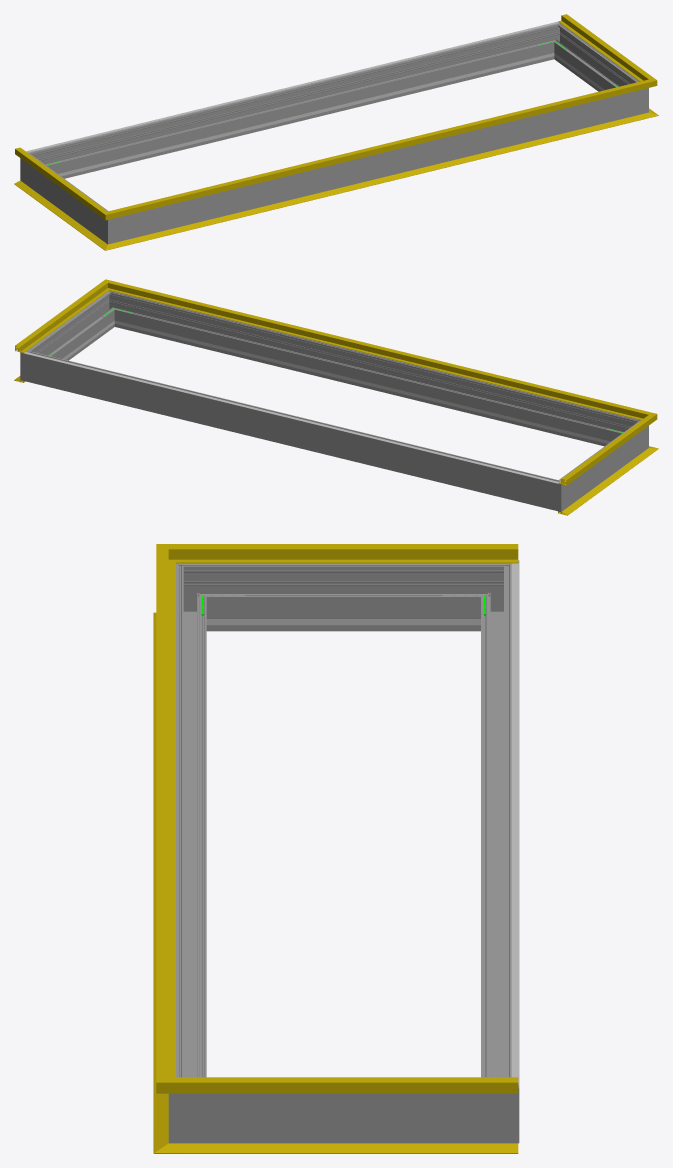
3 renders of one model, top to bottom at view 1: azimuth 30°, elevation 25°; view 2: azimuth 150°, elevation 25°; view 3: azimuth 270°, elevation 25°, orthographic. The views are drawn at different scales.
Visible parts, largest first — view 1: 3DGeom-278, 3DGeom-300, 3DGeom-123, 3DGeom-28, 3DGeom-299, 3DGeom-246, 3DGeom-270, 3DGeom-222, 3DGeom-128, 3DGeom-118, 3DGeom-272, 3DGeom-38 (+3 smaller); view 2: 3DGeom-300, 3DGeom-278, 3DGeom-123, 3DGeom-299, 3DGeom-241, 3DGeom-270, 3DGeom-222, 3DGeom-128, 3DGeom-118, 3DGeom-280, 3DGeom-38, 3DGeom-286 (+2 smaller); view 3: 3DGeom-270, 3DGeom-278, 3DGeom-300, 3DGeom-299, 3DGeom-123, 3DGeom-118, 3DGeom-128, 3DGeom-222, 3DGeom-30, 3DGeom-286, 3DGeom-28, 3DGeom-292 (+5 smaller).
Boxes of the visible parts, bbox=[...] form: 3DGeom-278: bbox=[42, 27, 550, 178]; 3DGeom-300: bbox=[127, 93, 628, 239]; 3DGeom-123: bbox=[123, 83, 637, 215]; 3DGeom-28: bbox=[121, 116, 638, 245]; 3DGeom-299: bbox=[556, 30, 634, 91]; 3DGeom-246: bbox=[65, 57, 535, 175]; 3DGeom-270: bbox=[31, 159, 102, 235]; 3DGeom-222: bbox=[26, 21, 559, 152]; 3DGeom-128: bbox=[558, 14, 645, 79]; 3DGeom-118: bbox=[15, 147, 98, 211]; 3DGeom-272: bbox=[96, 207, 127, 244]; 3DGeom-38: bbox=[14, 180, 99, 241]; 3DGeom-300: bbox=[118, 294, 627, 446]; 3DGeom-278: bbox=[40, 354, 544, 506]; 3DGeom-123: bbox=[120, 284, 637, 417]; 3DGeom-299: bbox=[35, 297, 112, 360]; 3DGeom-241: bbox=[134, 325, 603, 442]; 3DGeom-270: bbox=[566, 427, 637, 503]; 3DGeom-222: bbox=[23, 352, 558, 483]; 3DGeom-128: bbox=[15, 287, 102, 352]; 3DGeom-118: bbox=[558, 421, 645, 485]; 3DGeom-280: bbox=[541, 474, 572, 511]; 3DGeom-38: bbox=[558, 453, 647, 515]; 3DGeom-286: bbox=[20, 345, 43, 384]; 3DGeom-270: bbox=[214, 563, 473, 631]; 3DGeom-278: bbox=[481, 579, 519, 1077]; 3DGeom-300: bbox=[176, 579, 206, 1077]; 3DGeom-299: bbox=[214, 1093, 473, 1143]; 3DGeom-123: bbox=[156, 563, 175, 1073]; 3DGeom-118: bbox=[202, 544, 518, 563]; 3DGeom-128: bbox=[202, 1077, 518, 1093]; 3DGeom-222: bbox=[511, 563, 518, 1085]; 3DGeom-30: bbox=[199, 1143, 518, 1153]; 3DGeom-286: bbox=[473, 1069, 519, 1143]; 3DGeom-28: bbox=[153, 631, 168, 1133]; 3DGeom-292: bbox=[168, 1069, 214, 1143].
Bounding box in the file's own units: 4.27 × 0.2596 × 1.22.
